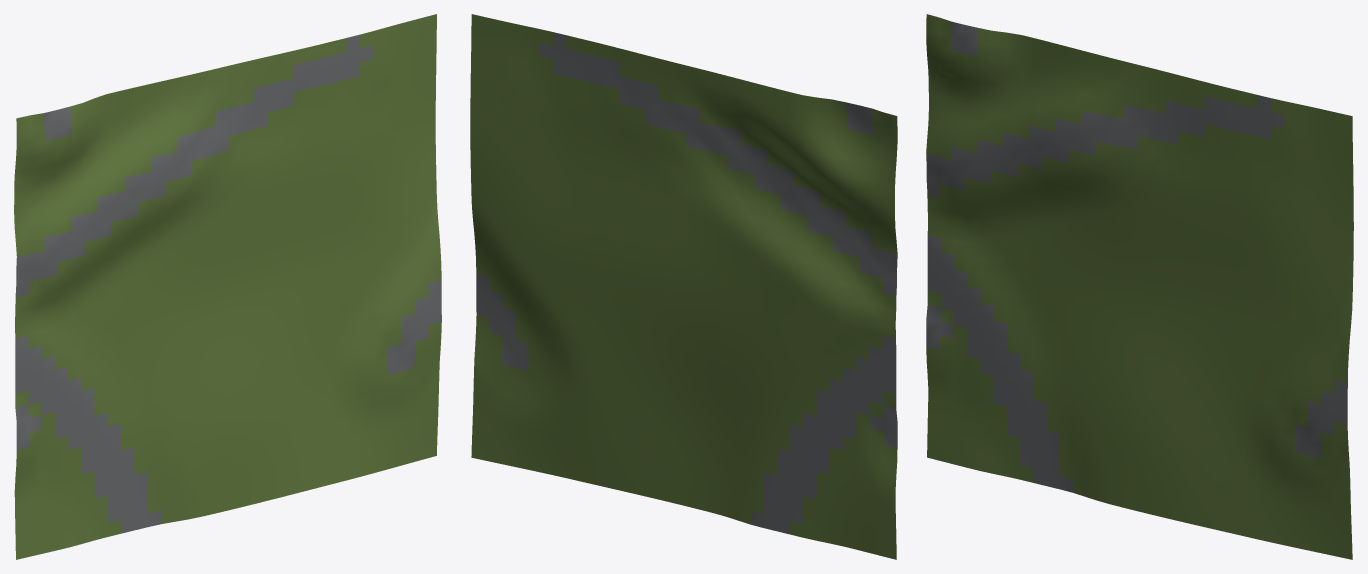
File: island_terrain_14_08.obj
The picture shows the model from 3 angles, left to right: view 1: azimuth 30°, elevation 25°; view 2: azimuth 150°, elevation 25°; view 3: azimuth 330°, elevation 25°; orthographic projection.
Visible parts, largest first — view 1: island_terrain_14_08; view 2: island_terrain_14_08; view 3: island_terrain_14_08.
Boxes of the visible parts, x1,y1,x2,y2 form: island_terrain_14_08: (14, 14, 441, 559); island_terrain_14_08: (470, 14, 897, 559); island_terrain_14_08: (926, 14, 1353, 559).
Bounding box in the file's own units: 256 × 256 × 7.95.
